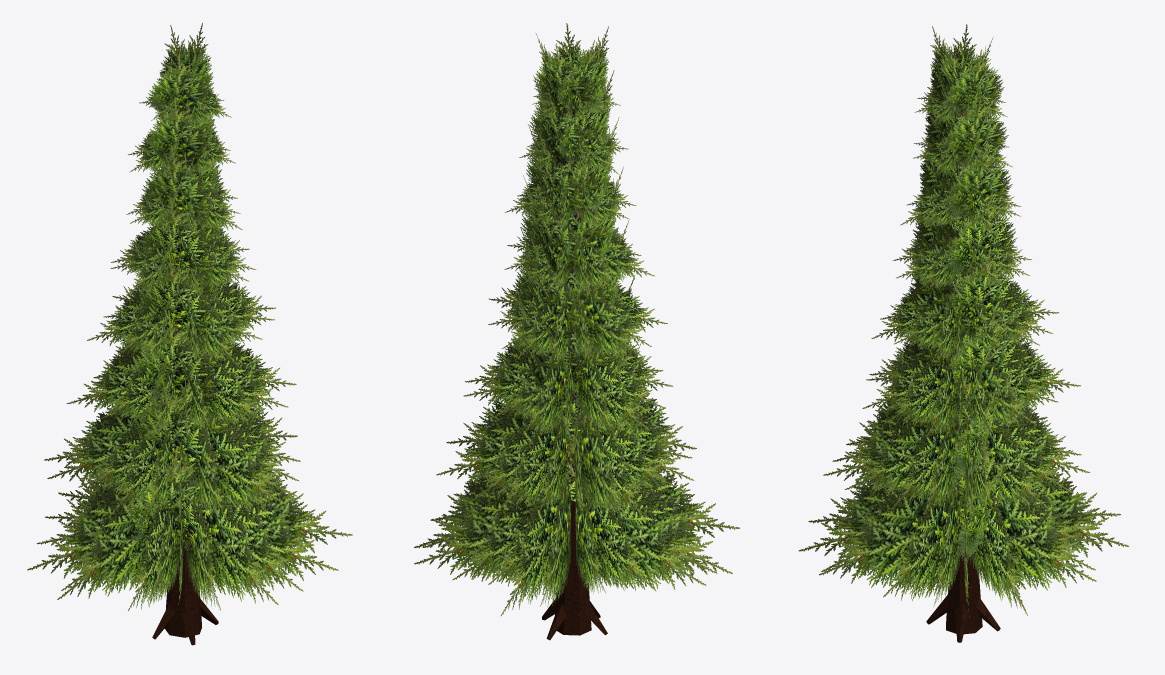
The model's file is tree_pine_01_real.gltf.
The picture shows the model from 3 angles, left to right: view 1: azimuth 30°, elevation 25°; view 2: azimuth 150°, elevation 25°; view 3: azimuth 270°, elevation 25°; orthographic projection.
Parts seen in each view (by area): view 1: tree_pine_01; view 2: tree_pine_01; view 3: tree_pine_01.
Part boxes in pixels (x1,y1,x2,y2): tree_pine_01: (27,23,352,645); tree_pine_01: (414,23,739,640); tree_pine_01: (798,24,1128,642).
Size of the model in its own units: 4.76 by 8.49 by 4.79.
Materials: 2 (2 with a texture image).
